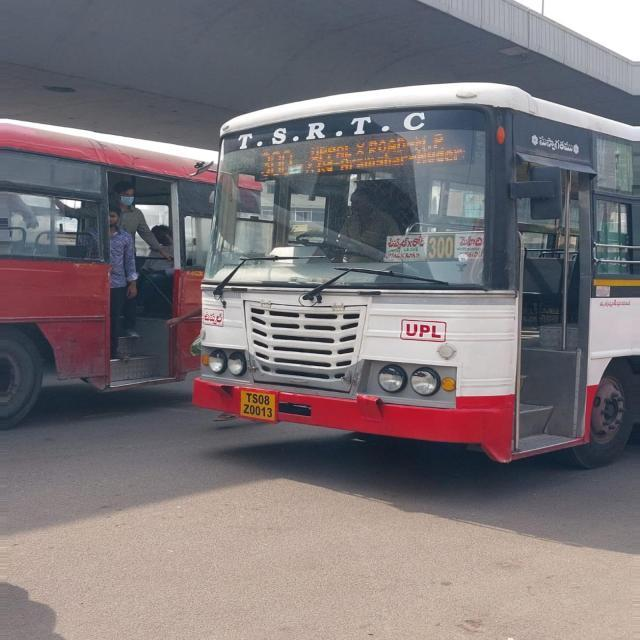Bus: (202, 81, 638, 483)
